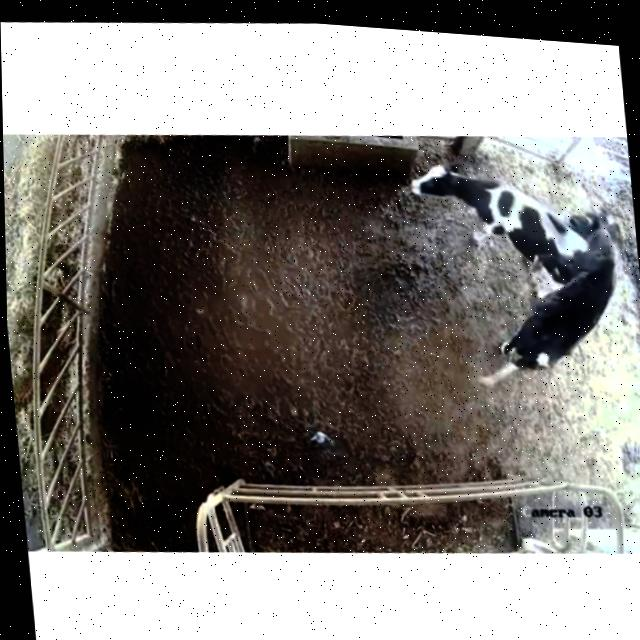propping: (545, 196, 630, 288)
